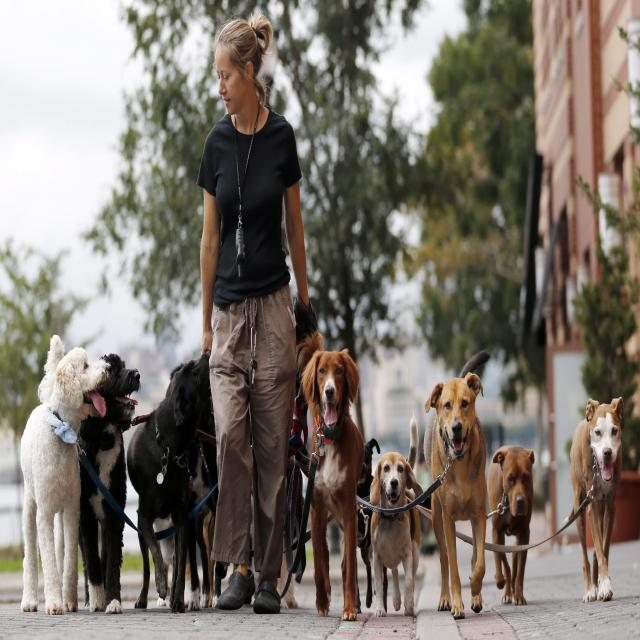Dogs: (18, 335, 112, 618), (126, 354, 212, 614), (294, 330, 366, 623), (72, 348, 142, 616), (424, 351, 492, 624), (568, 390, 628, 606), (369, 418, 425, 620), (339, 438, 392, 619), (487, 442, 537, 607)
